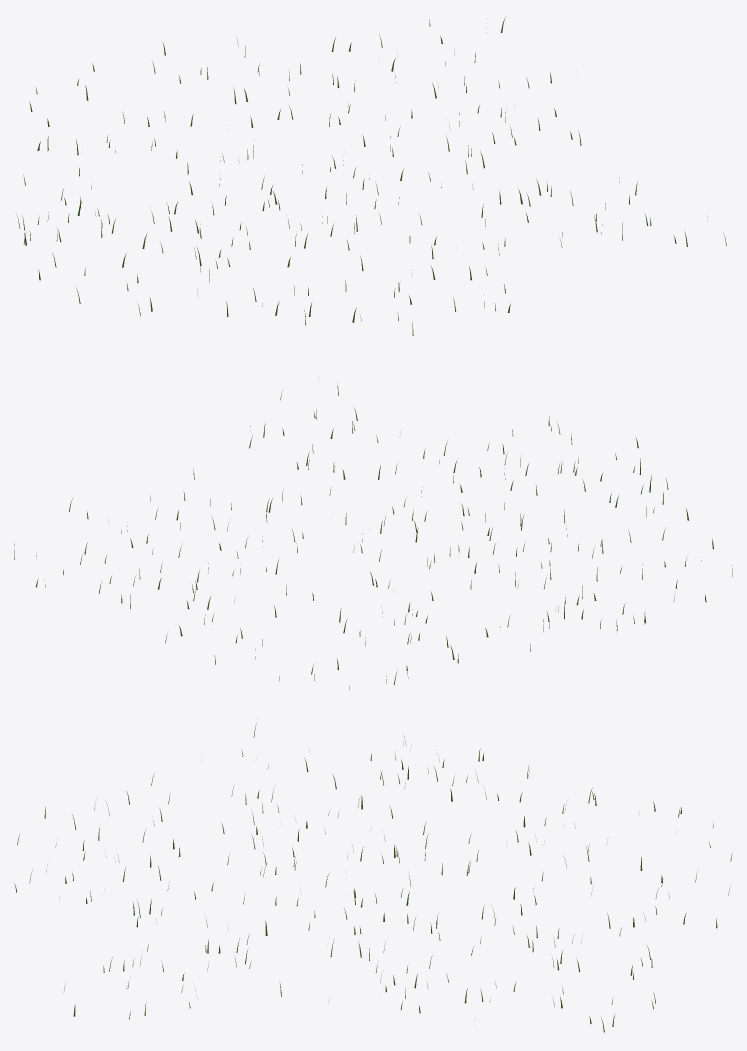
The picture shows the model from 3 angles, top to bottom: view 1: azimuth 30°, elevation 25°; view 2: azimuth 150°, elevation 25°; view 3: azimuth 270°, elevation 25°; orthographic projection. The views are drawn at different scales.
Parts seen in each view (by area): view 1: GrassPatch; view 2: GrassPatch; view 3: GrassPatch.
Boxes of the visible parts, x1,y1,x2,y2 form: GrassPatch: [17, 17, 726, 335]; GrassPatch: [14, 381, 732, 689]; GrassPatch: [14, 723, 731, 1032].
Bounding box in the file's own units: 16.72 × 0.4919 × 16.79.
